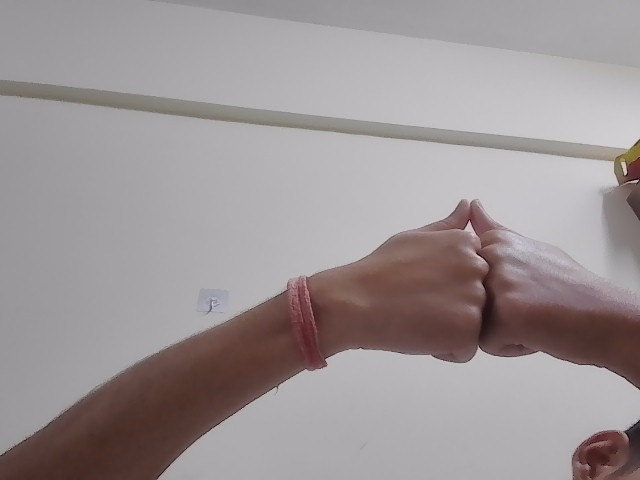A: (348, 197, 594, 363)
